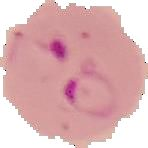parasitized: (26, 26, 130, 119)
